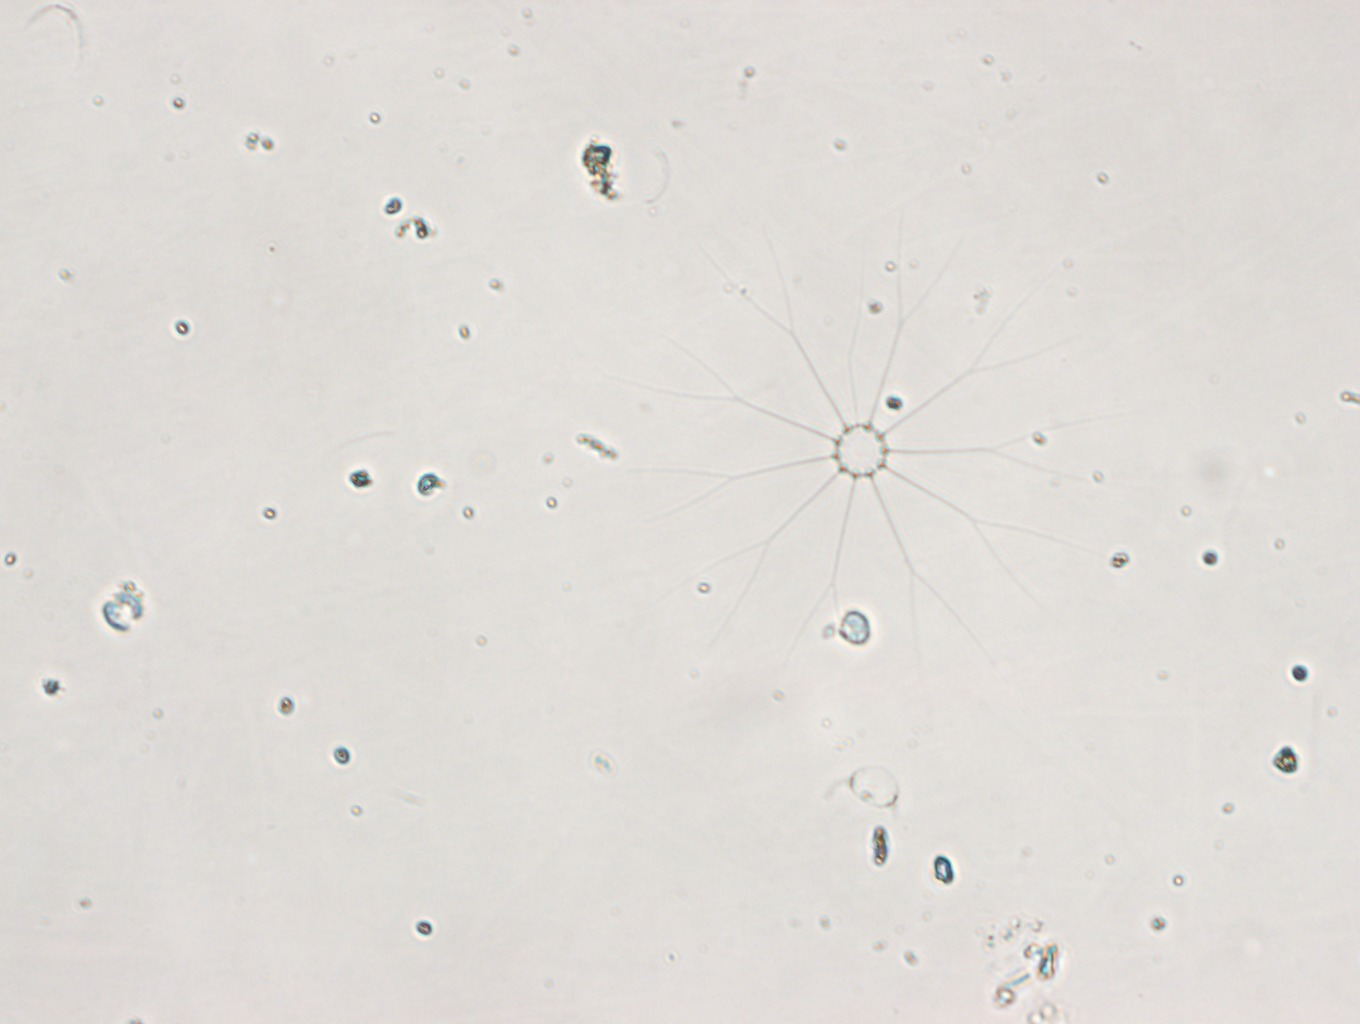bacteriastrum: (625, 211, 1110, 675)
